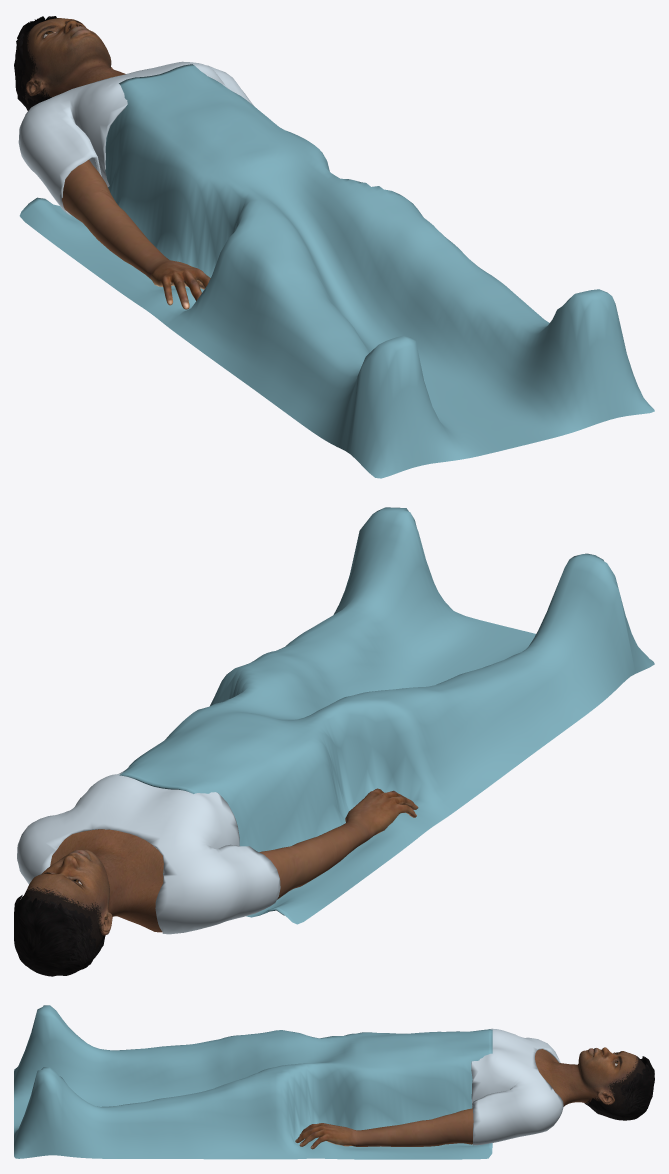
3 views of the same model, one above another, from view 1: azimuth 30°, elevation 25°; view 2: azimuth 150°, elevation 25°; view 3: azimuth 270°, elevation 25° (orthographic). The views are drawn at different scales.
Parts seen in each view (by area): view 1: sheet, gown, arms, body, hair; view 2: sheet, gown, body, arms, hair; view 3: sheet, gown, body, arms, hair.
Boxes of the visible parts, <box> form: sheet: <box>19,64,654,478</box>; gown: <box>18,61,253,215</box>; arms: <box>62,159,210,309</box>; body: <box>20,18,125,103</box>; hair: <box>14,16,58,110</box>; sheet: <box>119,507,654,924</box>; gown: <box>17,770,280,934</box>; body: <box>23,829,163,951</box>; arms: <box>259,788,418,899</box>; hair: <box>14,895,105,976</box>; sheet: <box>14,1005,492,1159</box>; gown: <box>471,1028,563,1145</box>; body: <box>535,1047,645,1111</box>; arms: <box>295,1108,473,1149</box>; hair: <box>584,1056,654,1120</box>.
Size of the model in its own units: 0.6635 by 0.2575 by 1.98.
Materials: 8 (6 with a texture image).
